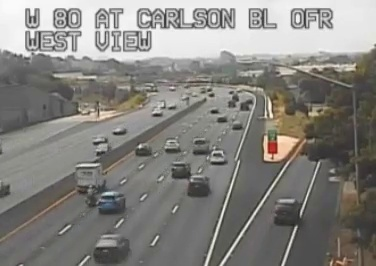car: (94, 235, 126, 259), (274, 199, 299, 224), (98, 192, 125, 213), (188, 175, 209, 196), (171, 162, 189, 179), (192, 138, 208, 154), (209, 150, 226, 164), (164, 139, 178, 152), (135, 143, 150, 155)
motorcycle: (84, 184, 97, 207)
small-truck: (75, 163, 106, 191)
